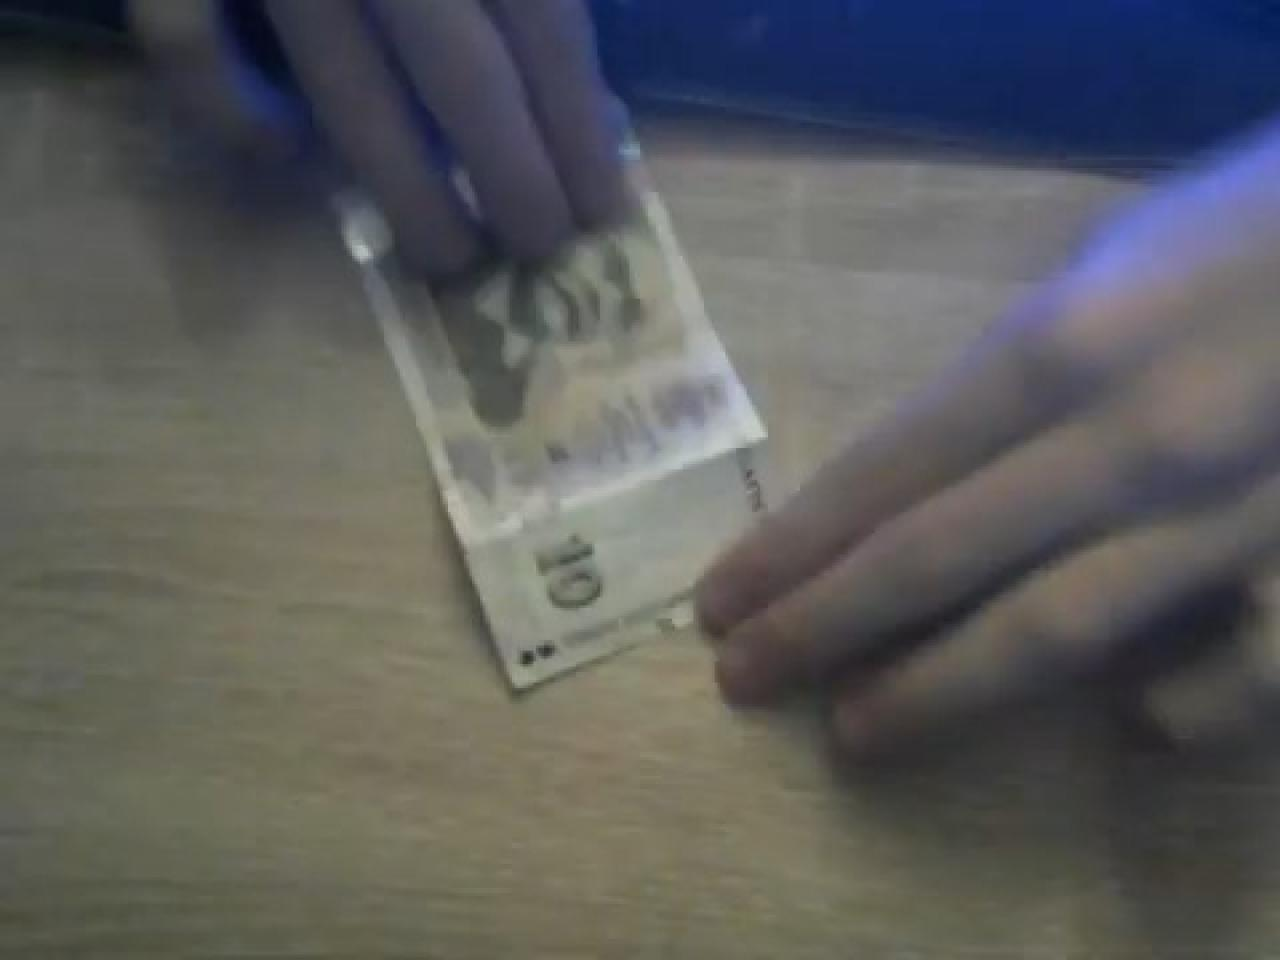10leva: (211, 0, 771, 701)
